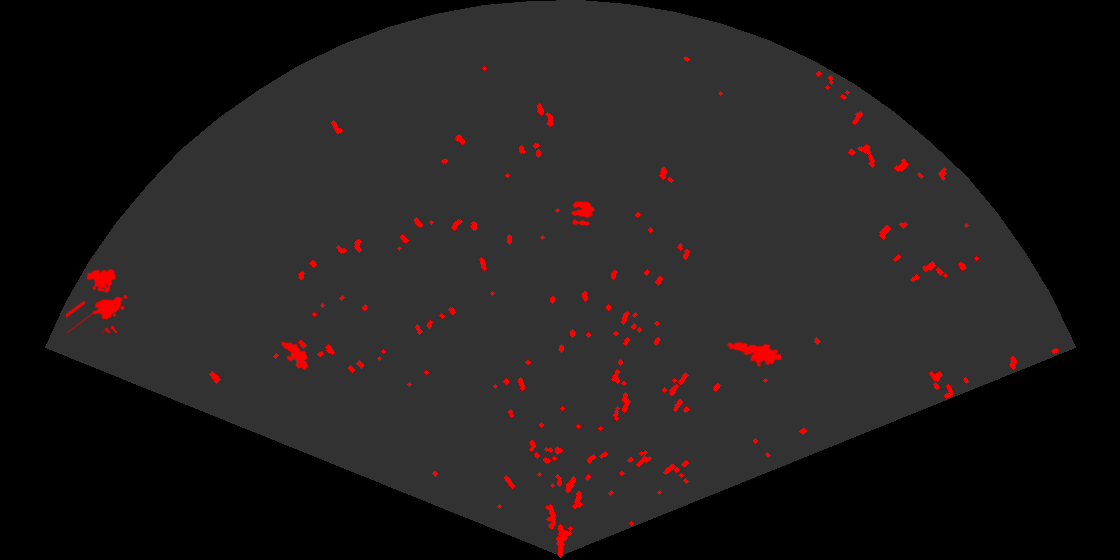AUV: (279, 340, 310, 372)
ball: (569, 199, 596, 227)
cage: (66, 267, 129, 333)
frogman: (725, 340, 781, 369)
